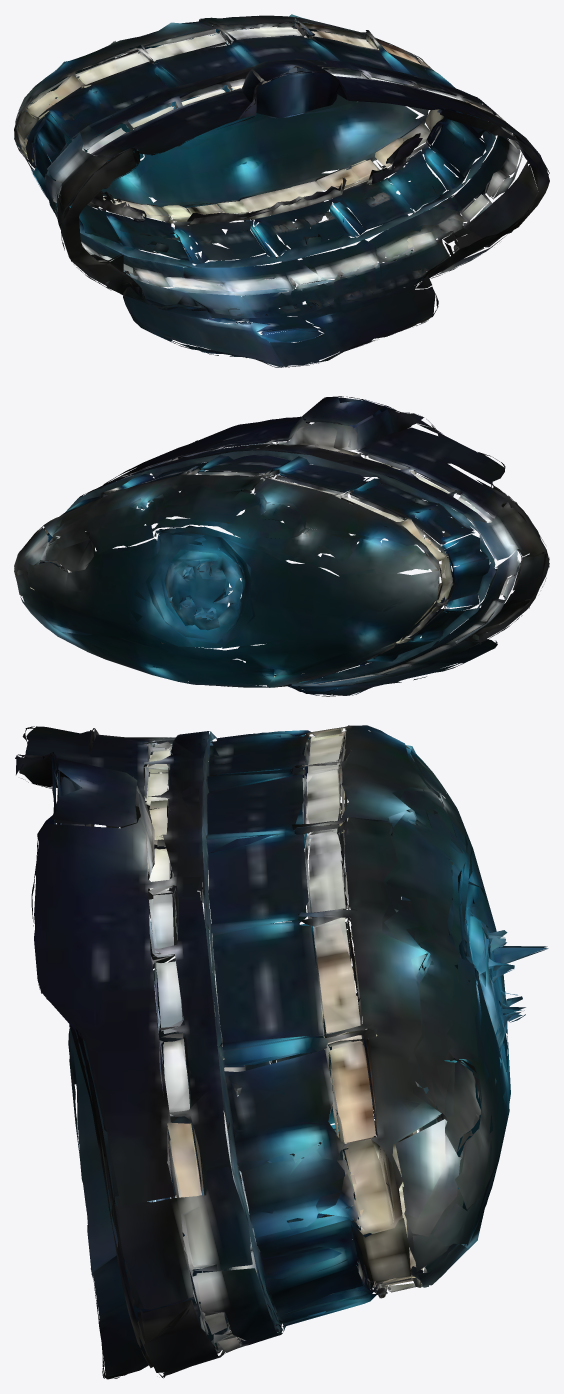
Rendered from polis-massa-domes.lo.glb.
3 renders of one model, top to bottom at view 1: azimuth 30°, elevation 25°; view 2: azimuth 150°, elevation 25°; view 3: azimuth 270°, elevation 25°, orthographic. The views are drawn at different scales.
Visible parts, largest first — view 1: low; view 2: low; view 3: low.
Part boxes in pixels (x1,y1,x2,y2): low: (14,14,549,367); low: (14,396,549,696); low: (15,725,548,1379).
Size of the model in its own units: 0.9391 by 0.5585 by 0.5345.
Materials: 1 (1 with a texture image).
